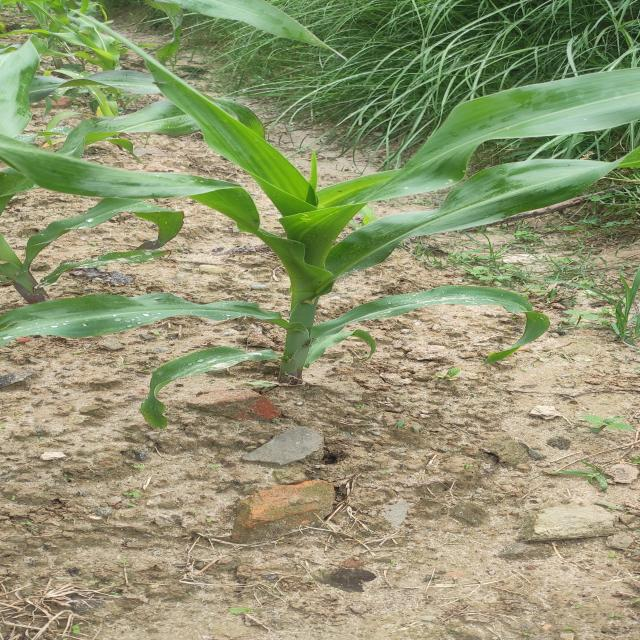maize: (146, 117, 534, 406), (0, 45, 149, 357)
weed: (156, 2, 640, 120)
